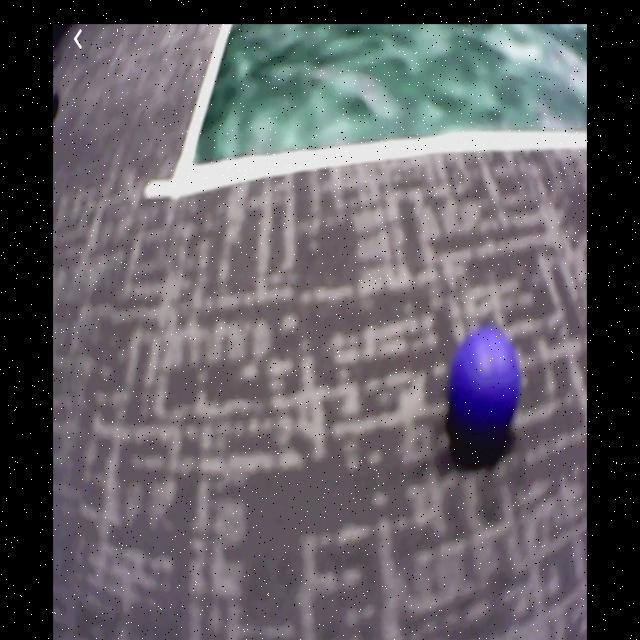ball: (447, 324, 519, 441)
